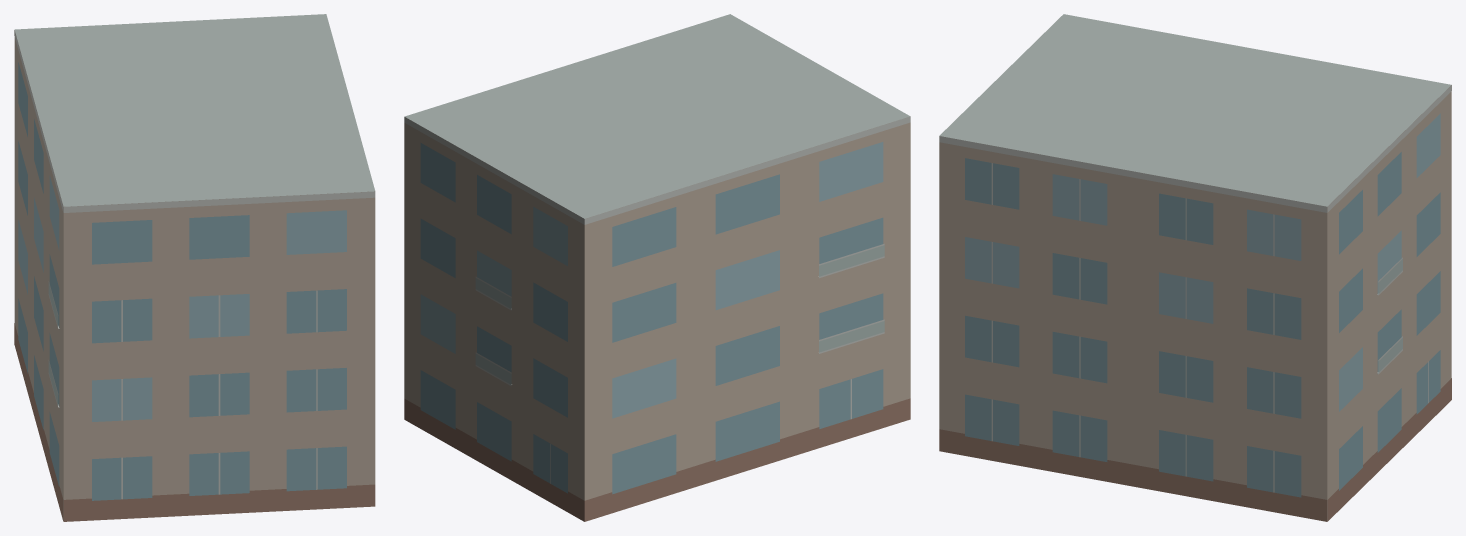
Rendered from residential-0d007734-73df-4a97-94ab-46eb8f2386e5.glb.
3 renders of one model, left to right at view 1: azimuth 30°, elevation 25°; view 2: azimuth 150°, elevation 25°; view 3: azimuth 270°, elevation 25°, orthographic. The views are drawn at different scales.
Parts seen in each view (by area): view 1: residential-0d007734-73df-4a97-94ab-46eb8f2386e5.tmp; view 2: residential-0d007734-73df-4a97-94ab-46eb8f2386e5.tmp; view 3: residential-0d007734-73df-4a97-94ab-46eb8f2386e5.tmp.
Part boxes in pixels (box(x1,y1,x2,y2)): residential-0d007734-73df-4a97-94ab-46eb8f2386e5.tmp: box(14, 14, 375, 521); residential-0d007734-73df-4a97-94ab-46eb8f2386e5.tmp: box(404, 14, 910, 521); residential-0d007734-73df-4a97-94ab-46eb8f2386e5.tmp: box(939, 14, 1451, 521).
Bounding box in the file's own units: 16 × 12.2 × 17.99.
